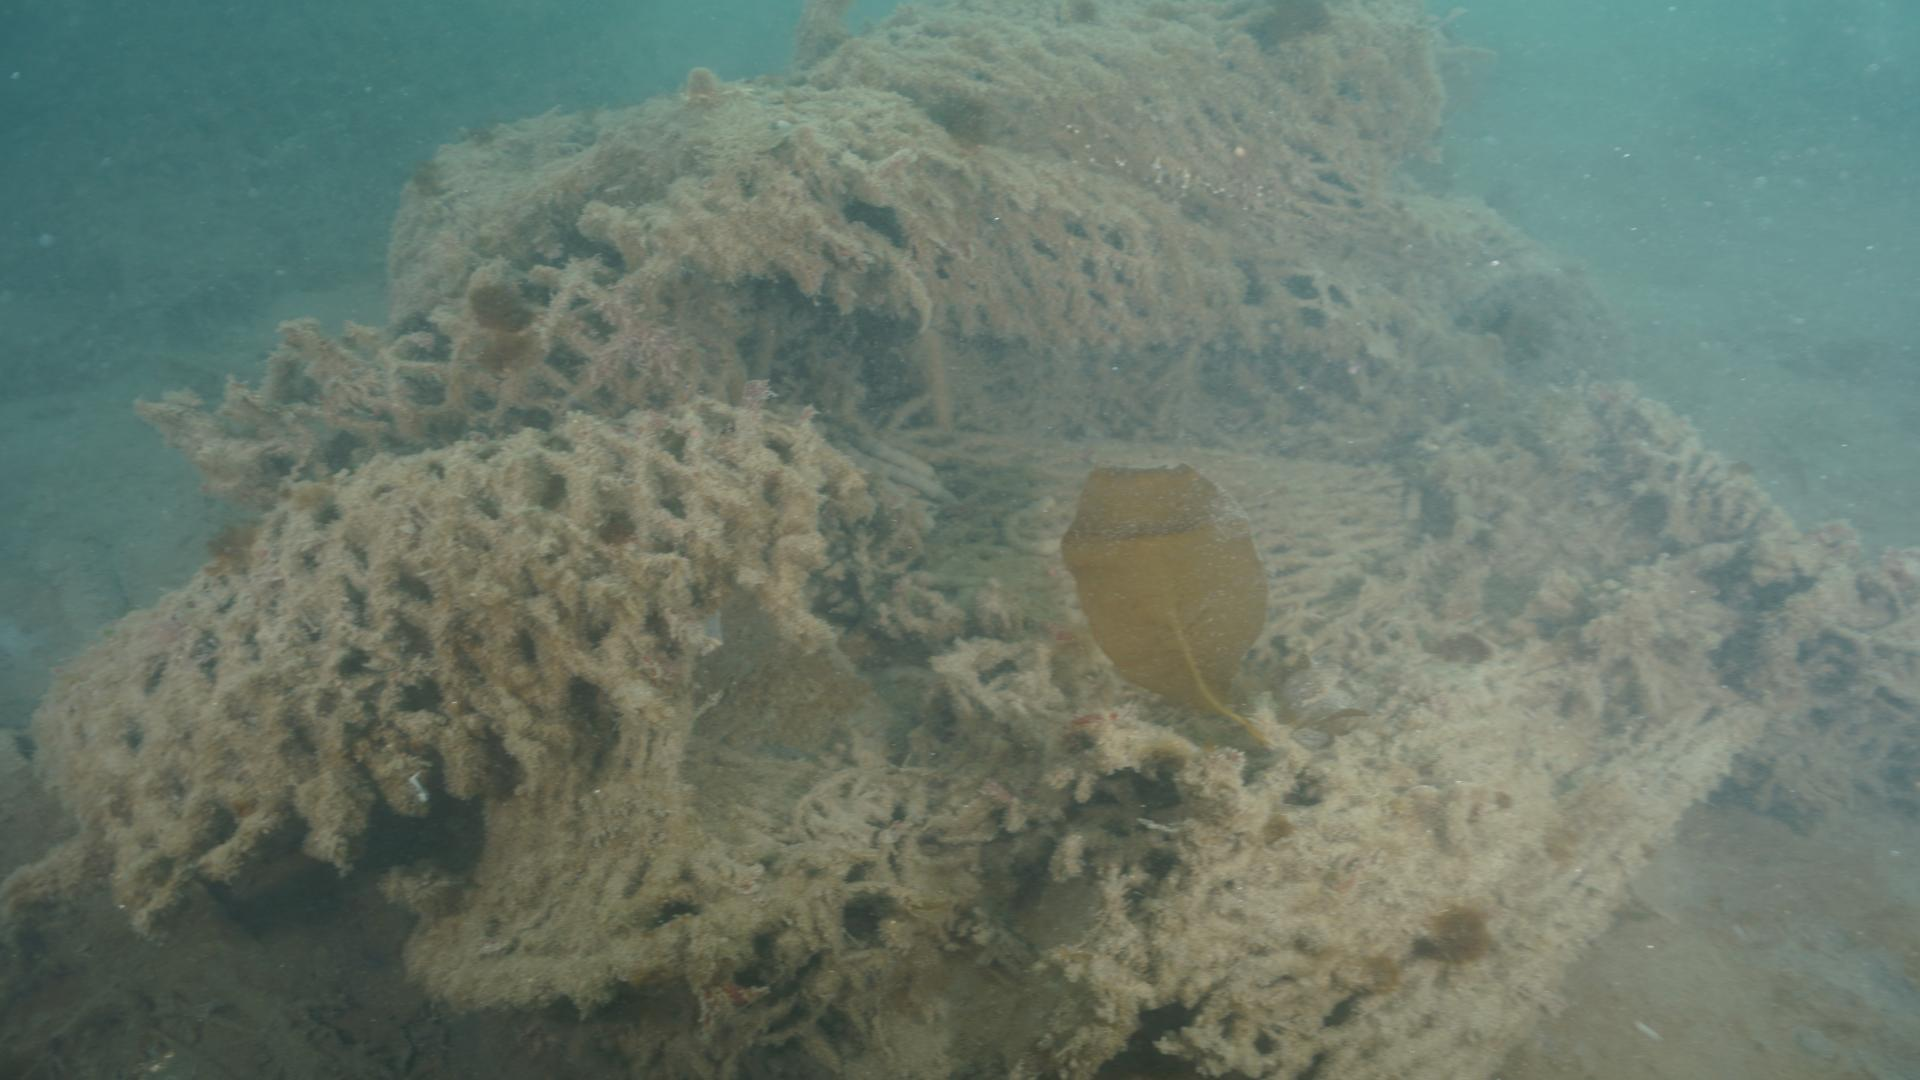fish net: (16, 0, 1878, 1080)
